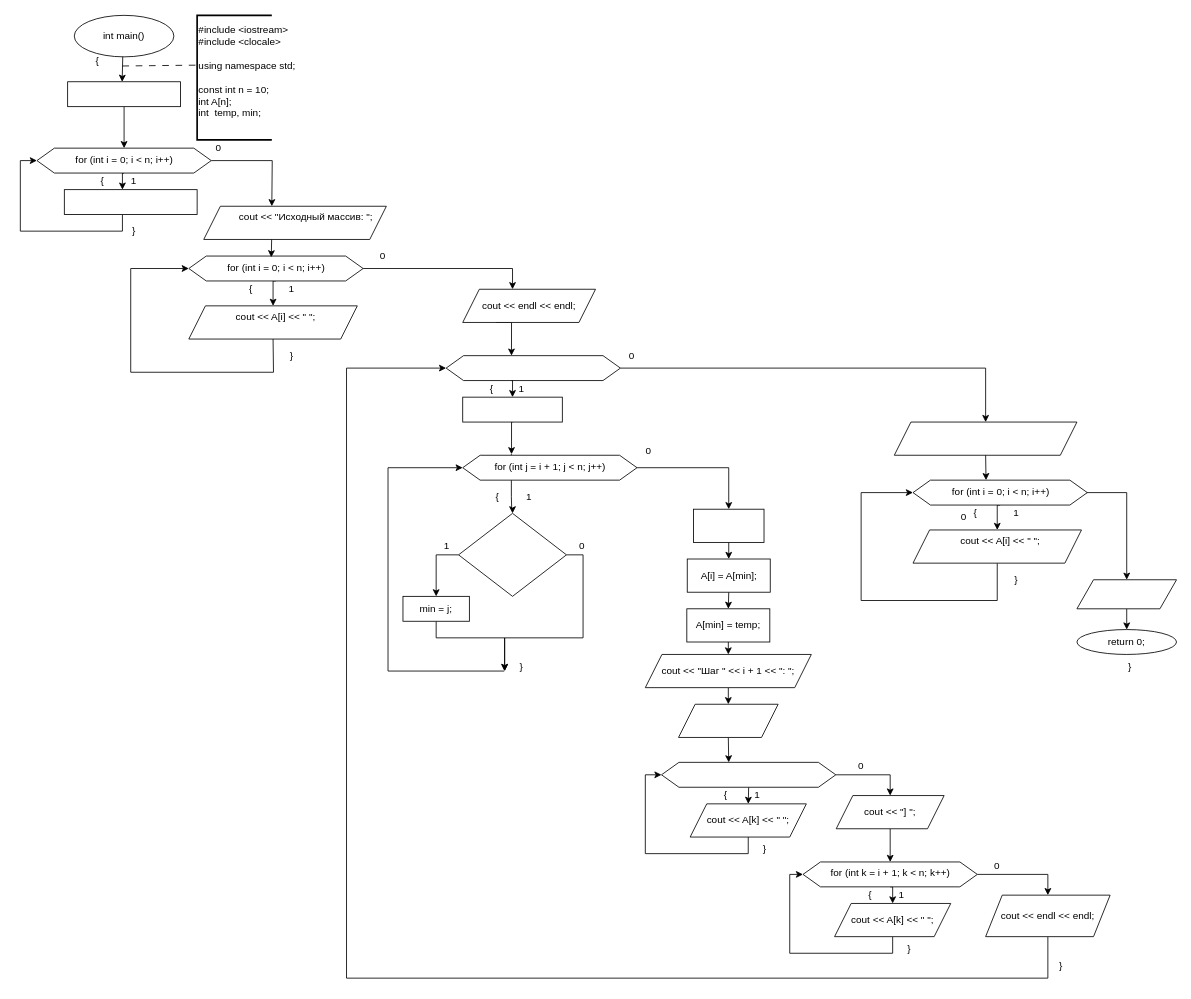
Image size: 1191x999. Some labels were removed from this diagram. The box of each missing label's shape, as (x1, y1, x2, y2) in pixels:
A[i] = rand () % 100 - 50;: (63, 189, 197, 215)
cout << "[ ";: (678, 703, 778, 737)
cout << endl << "Отсортированный массив: ";: (893, 421, 1077, 455)
cout << endl;: (1076, 579, 1177, 609)
for (int i = 0; i < n - 1; i++): (445, 355, 620, 381)
for (int k = 0; k <= i; k++): (661, 762, 836, 787)
if (A[j] < A[min]): (458, 513, 566, 596)
int min = i;: (462, 396, 562, 422)
setlocale(LC_ALL, "ru");: (67, 81, 181, 107)
temp = A[i];: (693, 508, 764, 542)
